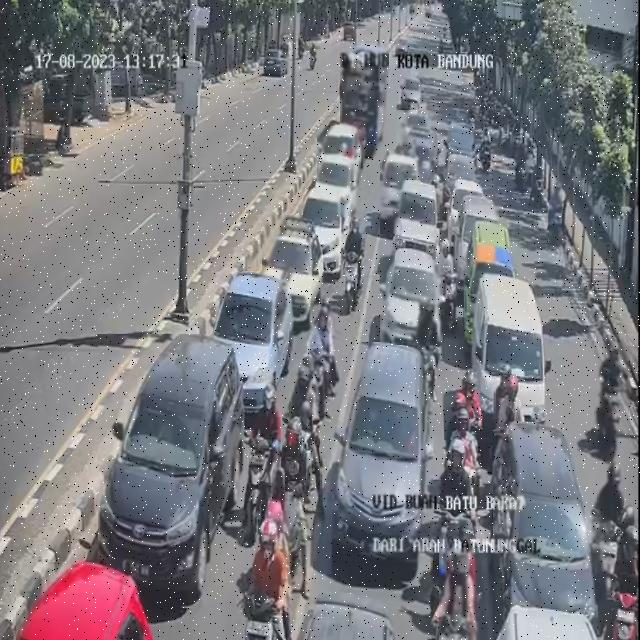bus: (340, 43, 389, 155)
cars: (99, 335, 245, 597), (333, 343, 433, 580), (493, 422, 597, 621), (472, 274, 552, 422), (214, 273, 293, 412), (17, 562, 152, 640), (293, 574, 429, 640), (263, 215, 328, 329), (465, 221, 516, 343), (381, 247, 443, 345), (303, 181, 352, 276), (317, 126, 361, 221), (395, 180, 441, 260), (455, 195, 499, 278), (381, 150, 420, 234), (500, 606, 598, 639), (448, 177, 484, 252), (398, 111, 437, 180)
motorcycle: (274, 417, 313, 598), (282, 353, 321, 511), (245, 387, 284, 544), (289, 302, 338, 415), (244, 519, 289, 640), (445, 369, 495, 466), (439, 519, 479, 640), (594, 343, 630, 463), (442, 440, 478, 548), (597, 461, 624, 590), (611, 506, 640, 624), (337, 217, 368, 308), (549, 178, 562, 249), (480, 123, 495, 179), (532, 158, 550, 200), (517, 150, 531, 193)
